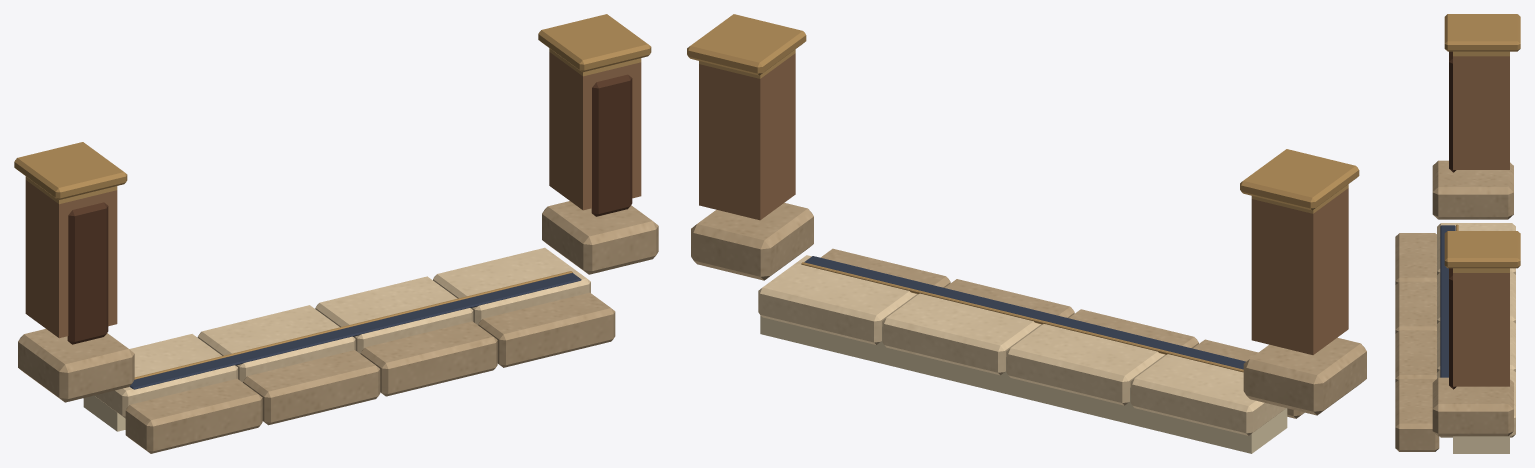
The model's file is entrance.glb.
The picture shows the model from 3 angles, left to right: view 1: azimuth 30°, elevation 25°; view 2: azimuth 150°, elevation 25°; view 3: azimuth 270°, elevation 25°; orthographic projection. The views are drawn at different scales.
Parts seen in each view (by area): view 1: DoorPost, DoorPost2, Lower threshold block, Lower threshold block.003, Lower threshold block.001, Lower threshold block.002, Door jamb foot, Door jamb foot.001, Door jamb recessed front, Door jamb recessed front.001, Upper threshold block.003, Upper threshold block.002 (+7 smaller); view 2: DoorPost, DoorPost2, StoneThreshold, Upper threshold block.003, Upper threshold block.002, Upper threshold block.001, Upper threshold block, Door jamb foot, Door jamb foot.001, Door jamb cap, Door jamb cap.001, Slate threshold strip (+5 smaller); view 3: DoorPost, DoorPost2, Door jamb foot.001, Door jamb foot, Door jamb cap.001, Door jamb cap, Lower threshold block.003, Lower threshold block.001, Lower threshold block, Lower threshold block.002, Slate threshold strip, StoneThreshold (+8 smaller).
Boxes of the visible parts, x1=… form: DoorPost: x1=25, y1=180, x2=117, y2=338; DoorPost2: x1=549, y1=52, x2=641, y2=210; Lower threshold block: x1=125, y1=378, x2=262, y2=453; Lower threshold block.003: x1=478, y1=292, x2=615, y2=367; Lower threshold block.001: x1=243, y1=350, x2=380, y2=425; Lower threshold block.002: x1=360, y1=321, x2=497, y2=396; Door jamb foot: x1=18, y1=329, x2=134, y2=402; Door jamb foot.001: x1=542, y1=201, x2=658, y2=274; Door jamb recessed front: x1=67, y1=202, x2=108, y2=344; Door jamb recessed front.001: x1=591, y1=74, x2=632, y2=216; Upper threshold block.003: x1=433, y1=247, x2=590, y2=324; Upper threshold block.002: x1=315, y1=276, x2=473, y2=353; DoorPost: x1=1251, y1=188, x2=1348, y2=354; DoorPost2: x1=699, y1=53, x2=795, y2=220; StoneThreshold: x1=760, y1=315, x2=1287, y2=453; Upper threshold block.003: x1=758, y1=255, x2=917, y2=344; Upper threshold block.002: x1=882, y1=293, x2=1042, y2=375; Upper threshold block.001: x1=1006, y1=324, x2=1166, y2=405; Upper threshold block: x1=1130, y1=354, x2=1286, y2=435; Door jamb foot: x1=1243, y1=337, x2=1366, y2=415; Door jamb foot.001: x1=691, y1=203, x2=813, y2=280; Door jamb cap: x1=1240, y1=149, x2=1359, y2=210; Door jamb cap.001: x1=687, y1=14, x2=806, y2=75; Slate threshold strip: x1=804, y1=256, x2=1245, y2=369; DoorPost: x1=1453, y1=56, x2=1509, y2=169; DoorPost2: x1=1453, y1=273, x2=1509, y2=386; Door jamb foot.001: x1=1432, y1=377, x2=1513, y2=436; Door jamb foot: x1=1432, y1=160, x2=1513, y2=219; Door jamb cap.001: x1=1444, y1=231, x2=1520, y2=268; Door jamb cap: x1=1444, y1=14, x2=1520, y2=51; Lower threshold block.003: x1=1395, y1=379, x2=1439, y2=451; Lower threshold block.001: x1=1395, y1=281, x2=1436, y2=333; Lower threshold block: x1=1395, y1=233, x2=1436, y2=284; Lower threshold block.002: x1=1395, y1=330, x2=1436, y2=382; Slate threshold strip: x1=1440, y1=225, x2=1455, y2=377; StoneThreshold: x1=1453, y1=436, x2=1509, y2=453.
Bounding box in the file's own units: 2.57 × 1.07 × 0.549.
Materials: 8 (2 with a texture image).
